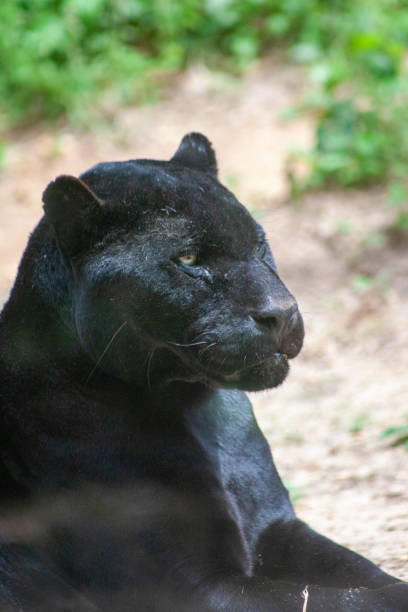panther: (11, 112, 336, 470)
